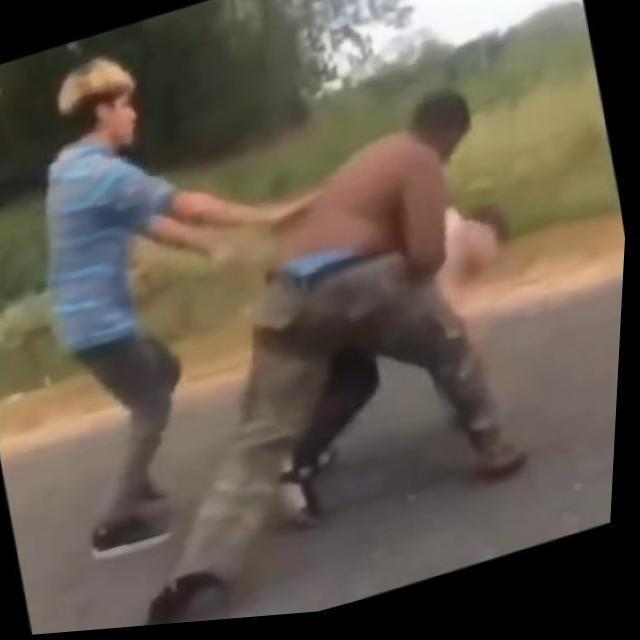fight: (185, 76, 576, 563)
